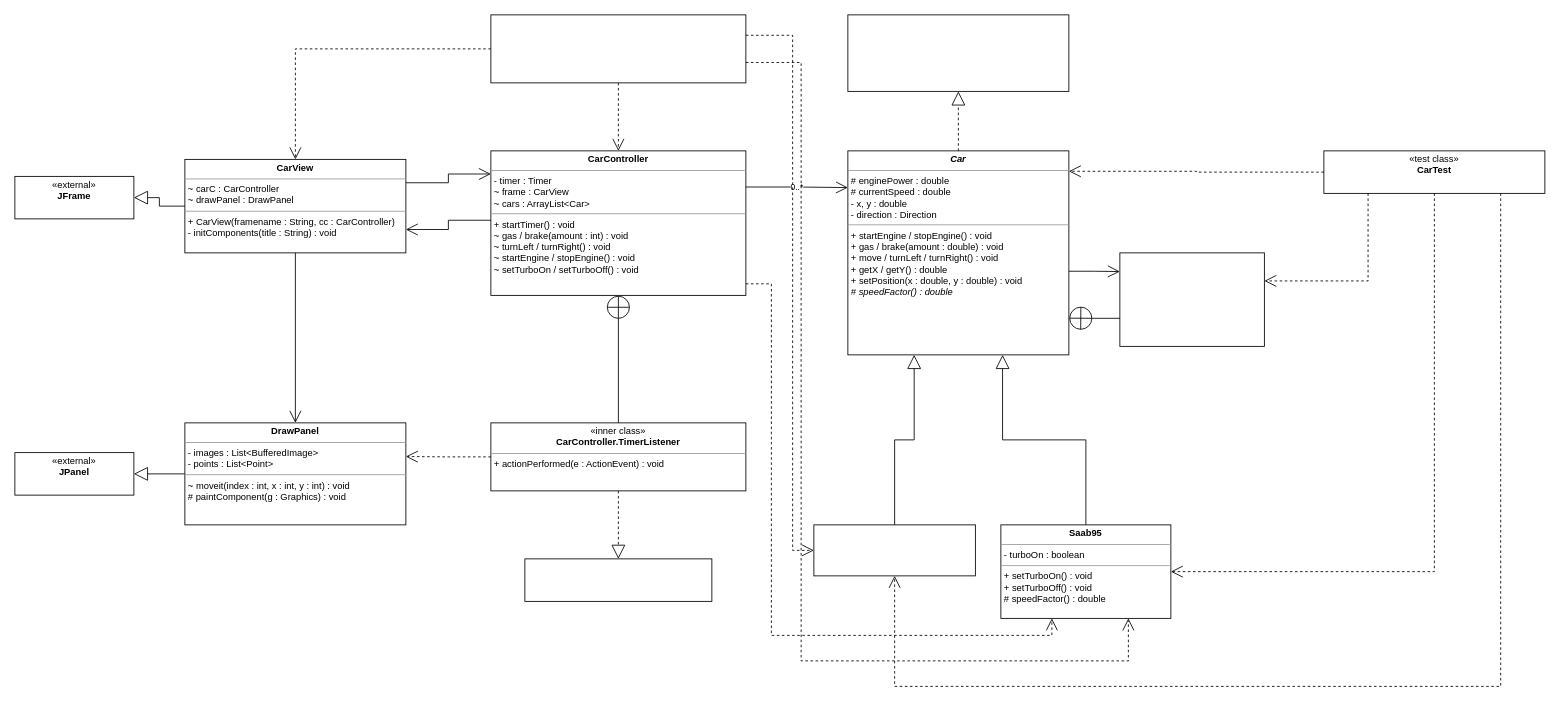
Image size: 1560x713. Some labels were removed from this diagram. Here are the shapes that lost their labels. From the top down, the box of each, then its label:
(490, 14, 746, 83): «implicit class» CarApplication ~ main() : void
(847, 14, 1069, 91): «interface» Moveable + move() : void + turnLeft() : void + turnRight() : void
(1119, 252, 1264, 346): «enumeration» Car.Direction NORTH EAST SOUTH WEST
(813, 524, 975, 576): Volvo240 # speedFactor() : double
(524, 558, 712, 601): «external interface» ActionListener
